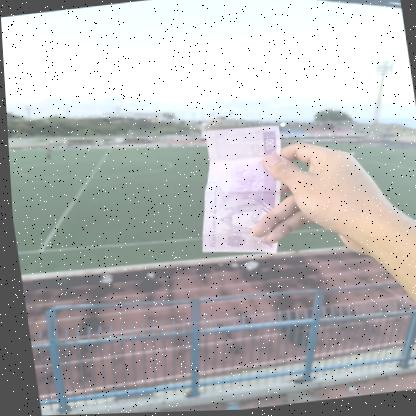one_hundred-back-vef: (181, 122, 295, 264)
